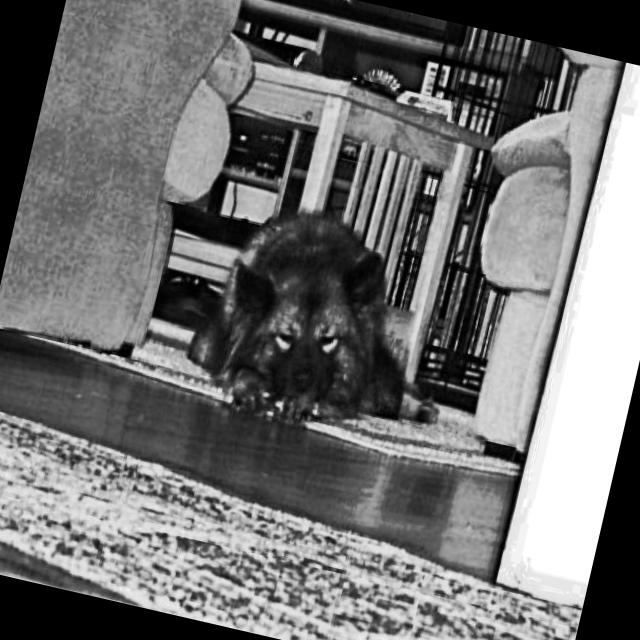Dog: (177, 182, 459, 458)
